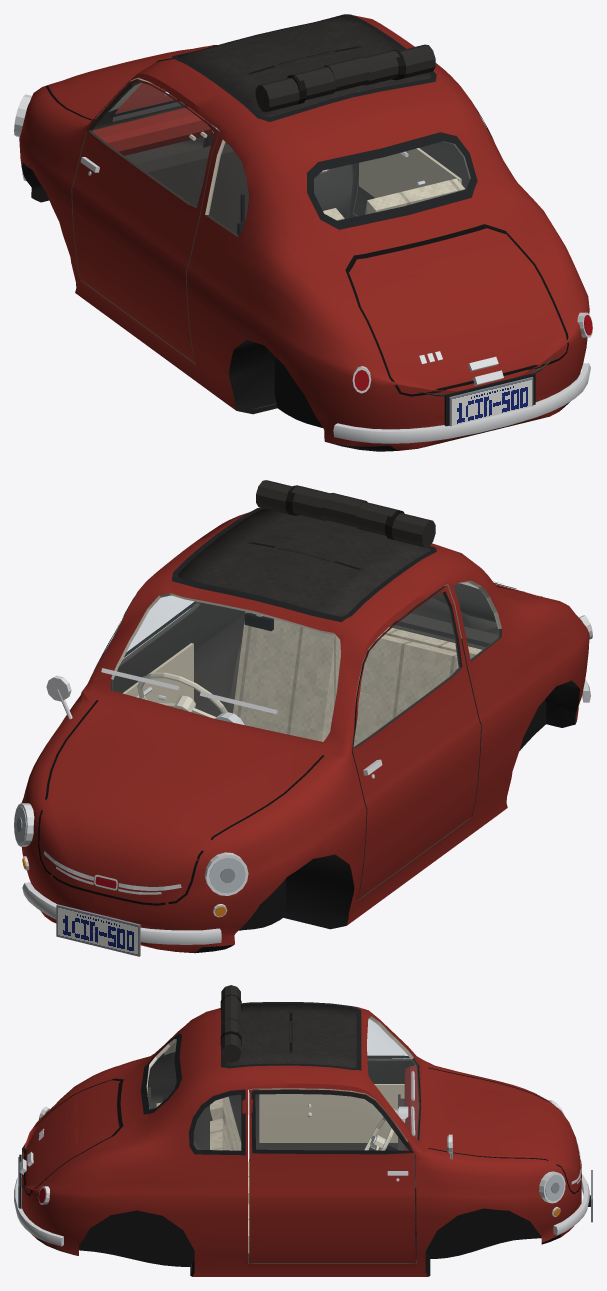
The model's file is classic_d.glb.
The picture shows the model from 3 angles, top to bottom: view 1: azimuth 30°, elevation 25°; view 2: azimuth 150°, elevation 25°; view 3: azimuth 270°, elevation 25°; orthographic projection. The views are drawn at different scales.
Parts seen in each view (by area): view 1: Body, Door_L, Glass, Interior, Roof_Closed, Door_L_Glass, Roof_Open, Door_R; view 2: Body, Glass, Interior, Door_L, Roof_Closed, Door_L_Glass, Roof_Open, Door_R, Lights_Head, SteeringWheel; view 3: Body, Door_R, Door_L, Roof_Closed, Door_R_Glass, Glass, Interior, Roof_Open, SteeringWheel.
Boxes of the visible parts, x1,y1,x2,y2 form: Body: [14, 14, 592, 451]; Door_L: [72, 79, 219, 363]; Glass: [150, 83, 469, 235]; Interior: [93, 107, 465, 235]; Roof_Closed: [178, 16, 430, 117]; Door_L_Glass: [92, 83, 212, 206]; Roof_Open: [255, 44, 435, 111]; Door_R: [353, 141, 469, 215]; Body: [14, 507, 592, 956]; Glass: [112, 582, 498, 741]; Interior: [181, 611, 497, 746]; Door_L: [352, 585, 480, 900]; Roof_Closed: [178, 509, 430, 616]; Door_L_Glass: [354, 593, 459, 746]; Roof_Open: [256, 480, 435, 547]; Door_R: [90, 597, 203, 703]; Lights_Head: [14, 806, 245, 893]; SteeringWheel: [137, 672, 227, 718]; Body: [14, 1002, 592, 1276]; Door_R: [249, 1089, 415, 1263]; Door_L: [249, 1055, 414, 1160]; Roof_Closed: [225, 1003, 356, 1068]; Door_R_Glass: [256, 1094, 407, 1149]; Glass: [147, 1018, 419, 1149]; Interior: [147, 1065, 418, 1262]; Roof_Open: [220, 985, 241, 1062]; SteeringWheel: [364, 1109, 397, 1150].
Size of the model in its own units: 1.32 by 1.29 by 3.07.
Materials: 25 (5 with a texture image).
